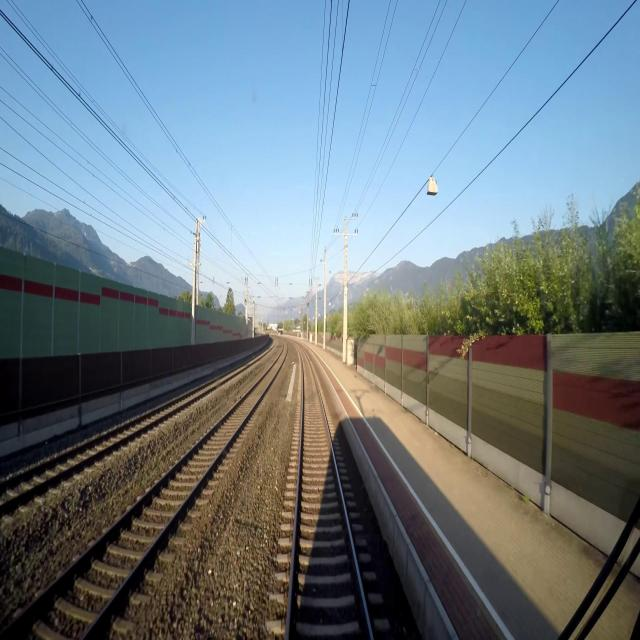rail-track: (289, 350, 369, 639)
